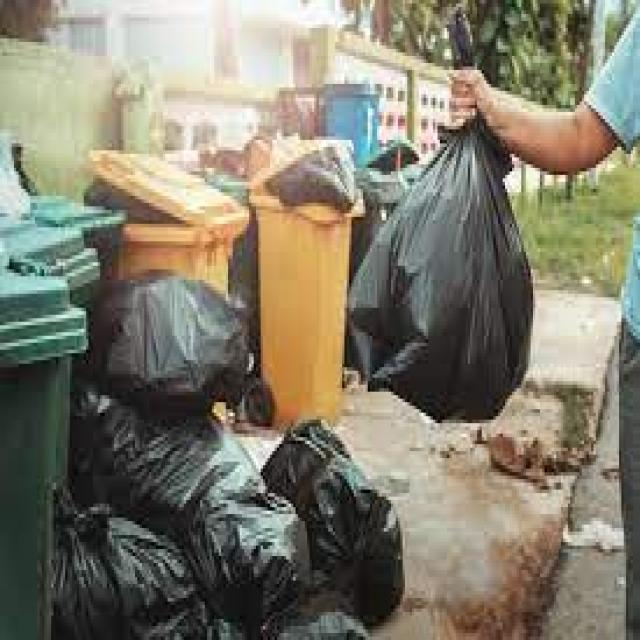garbage: (0, 133, 405, 636), (347, 7, 533, 420), (56, 381, 309, 637), (258, 413, 403, 626), (91, 273, 258, 416), (263, 140, 356, 210)
